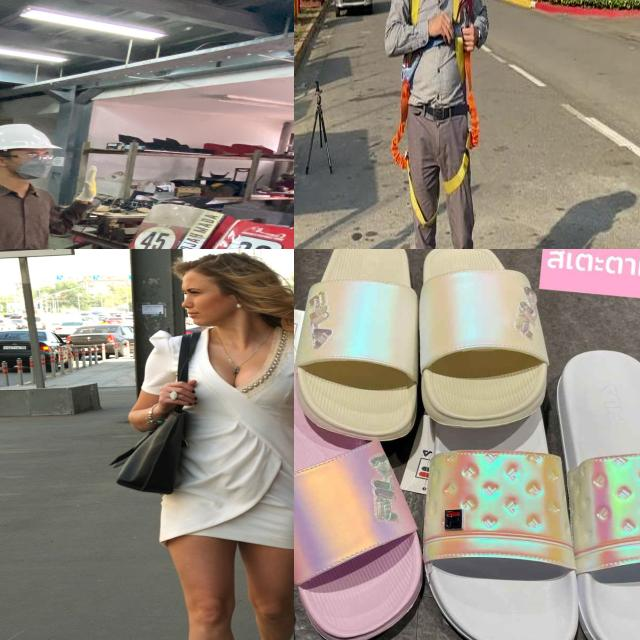Harness: (391, 52, 437, 226), (443, 0, 480, 196)
Sandals: (294, 249, 560, 445), (294, 353, 437, 640)
face_mask: (3, 147, 61, 181)
glasses: (6, 151, 59, 162)
hand_glove: (73, 163, 107, 203)
head_helmet: (0, 122, 68, 154)
